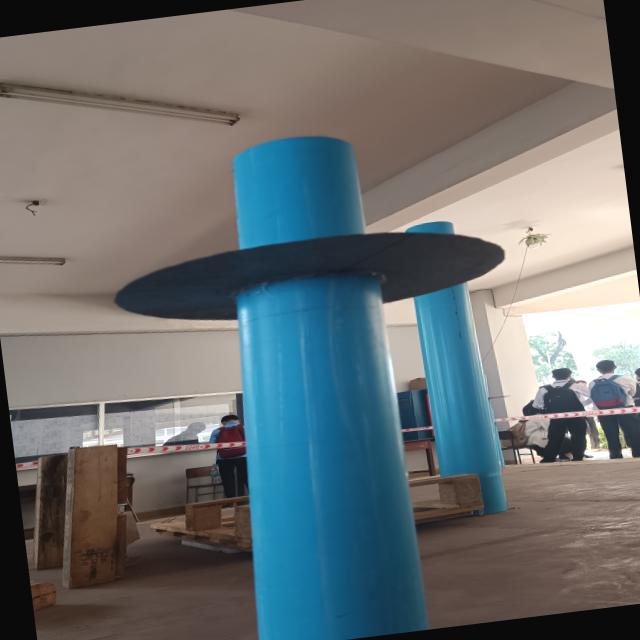pole: (82, 103, 530, 432)
